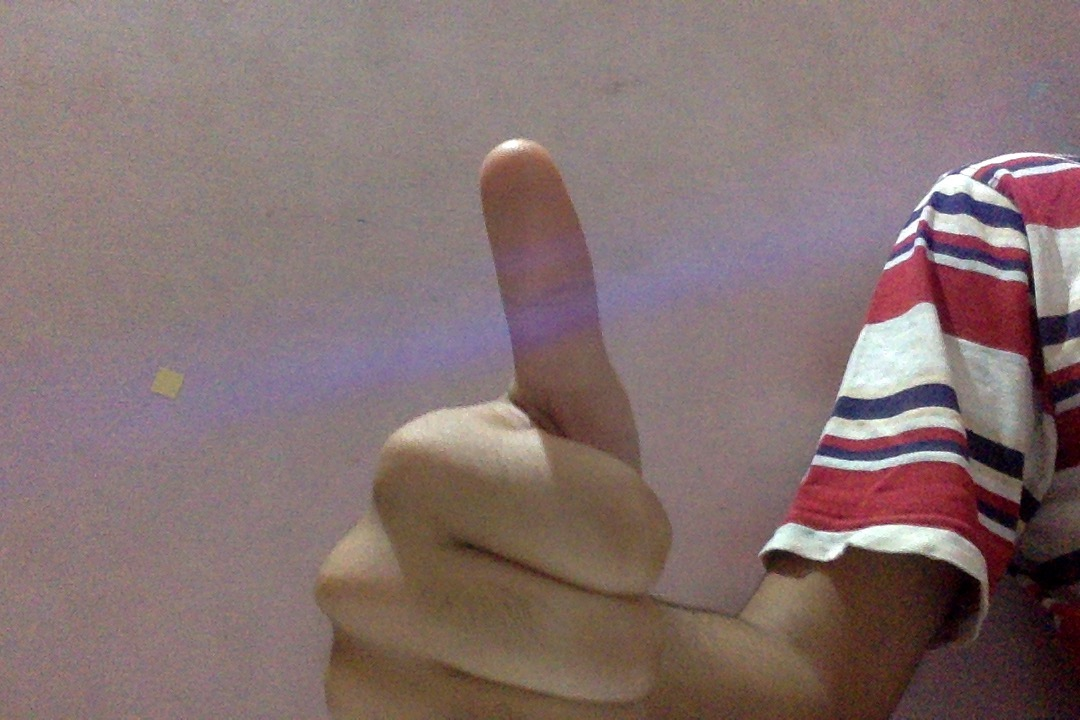hand: (236, 130, 779, 717)
